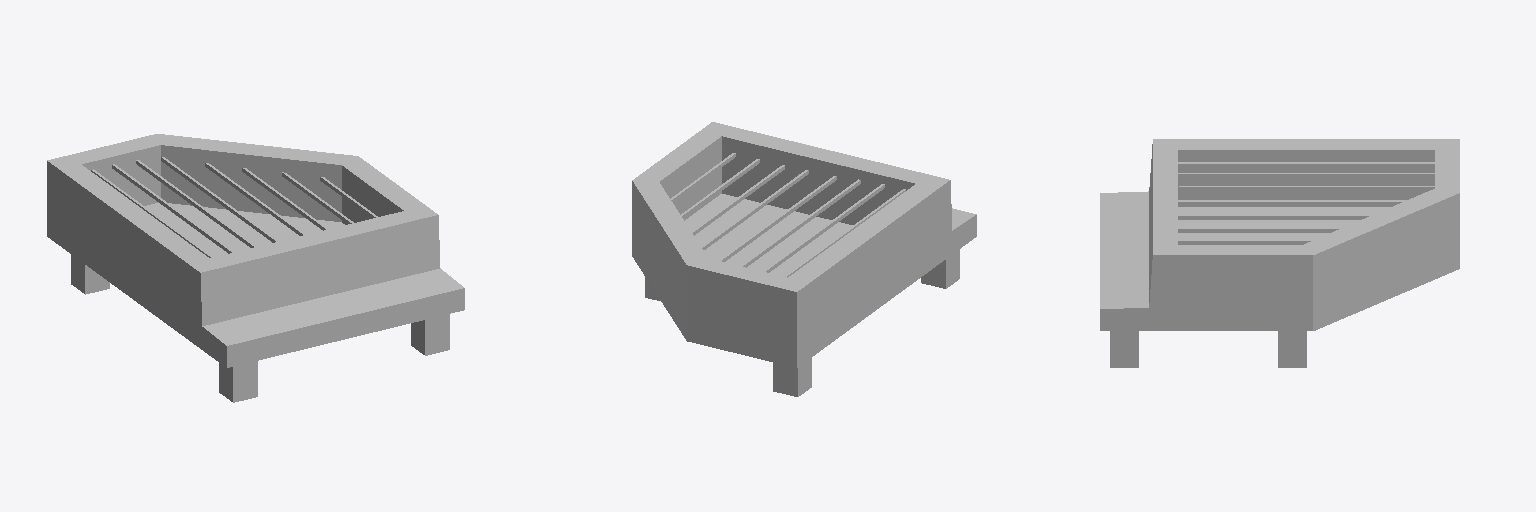
The picture shows the model from 3 angles: view 1: azimuth 30°, elevation 25°; view 2: azimuth 150°, elevation 25°; view 3: azimuth 270°, elevation 25°; orthographic projection.
Visible parts, largest first — view 1: Base_Cube.014; view 2: Base_Cube.014; view 3: Base_Cube.014.
Boxes of the visible parts, x1=… form: Base_Cube.014: x1=47, y1=134, x2=464, y2=402; Base_Cube.014: x1=632, y1=122, x2=976, y2=396; Base_Cube.014: x1=1100, y1=139, x2=1459, y2=367.
Size of the model in its own units: 1.53 by 0.7197 by 2.